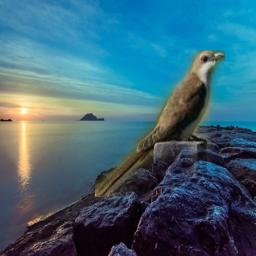Cuckoo: (95, 50, 225, 197)
